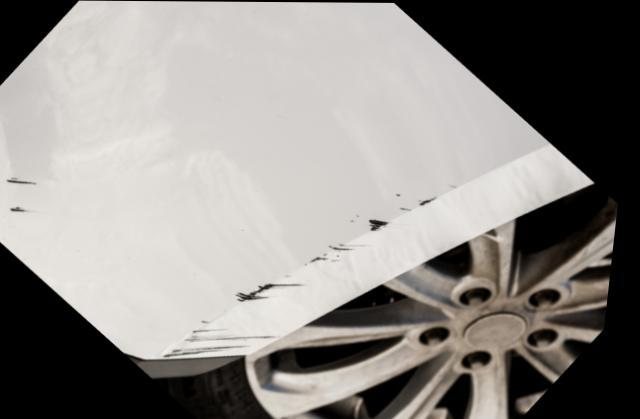scratch: (159, 183, 461, 361), (4, 174, 42, 220)
